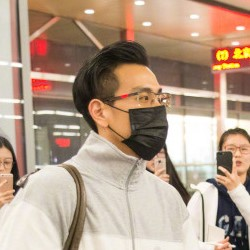mask: (95, 103, 169, 161)
